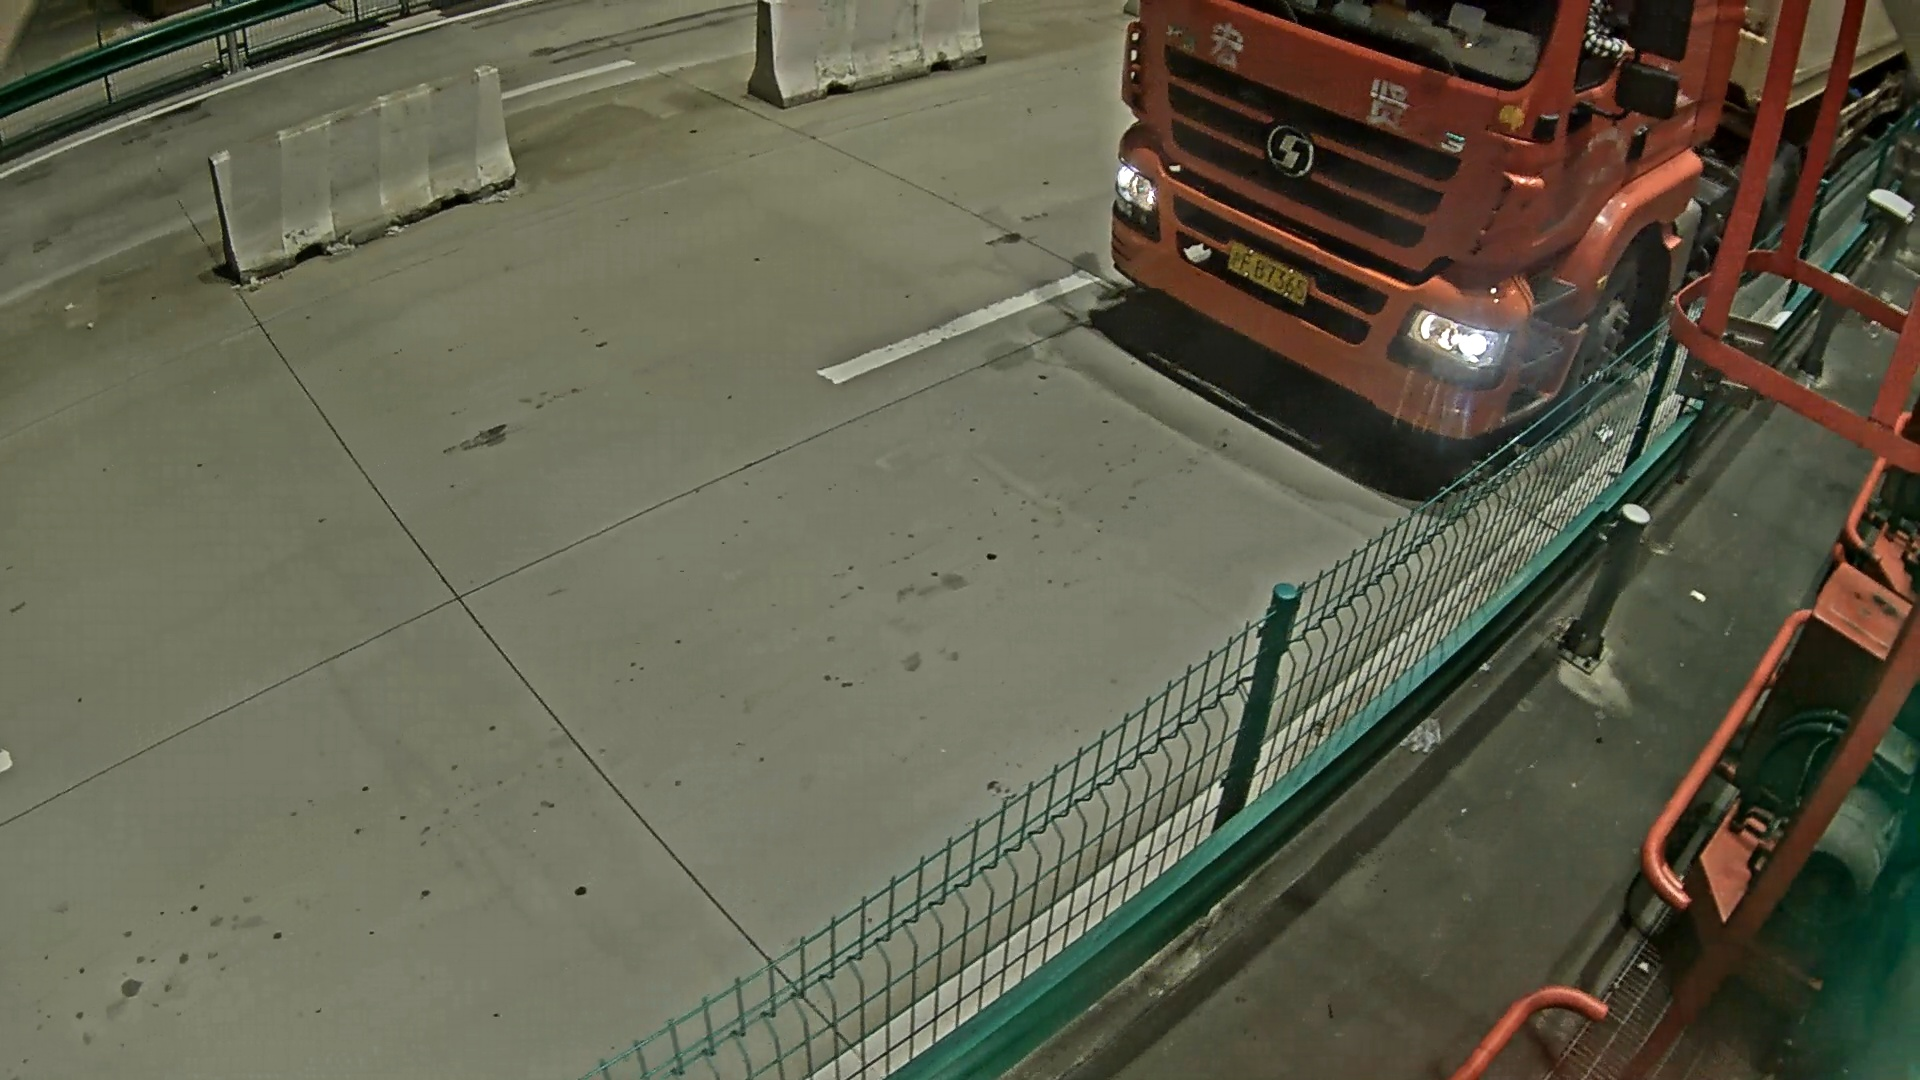head: (1119, 1, 1736, 440)
plate: (1229, 240, 1306, 304)
